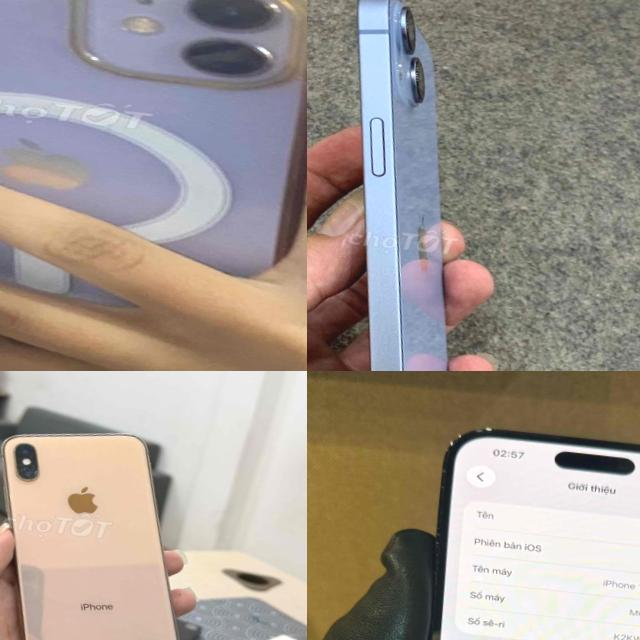gen_11: (0, 0, 307, 370)
gen_14: (307, 0, 509, 371), (380, 404, 640, 640)
gen_x_xs: (0, 419, 203, 640)
scratch: (28, 468, 44, 480), (13, 463, 28, 475)
